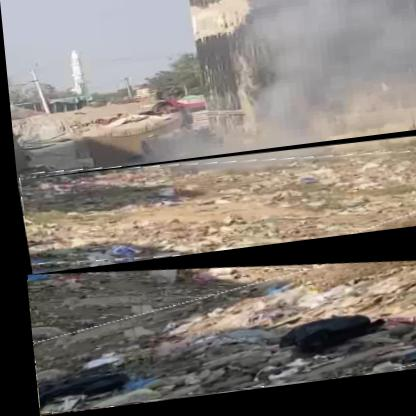Garbage: (22, 234, 416, 416), (14, 139, 416, 283)
